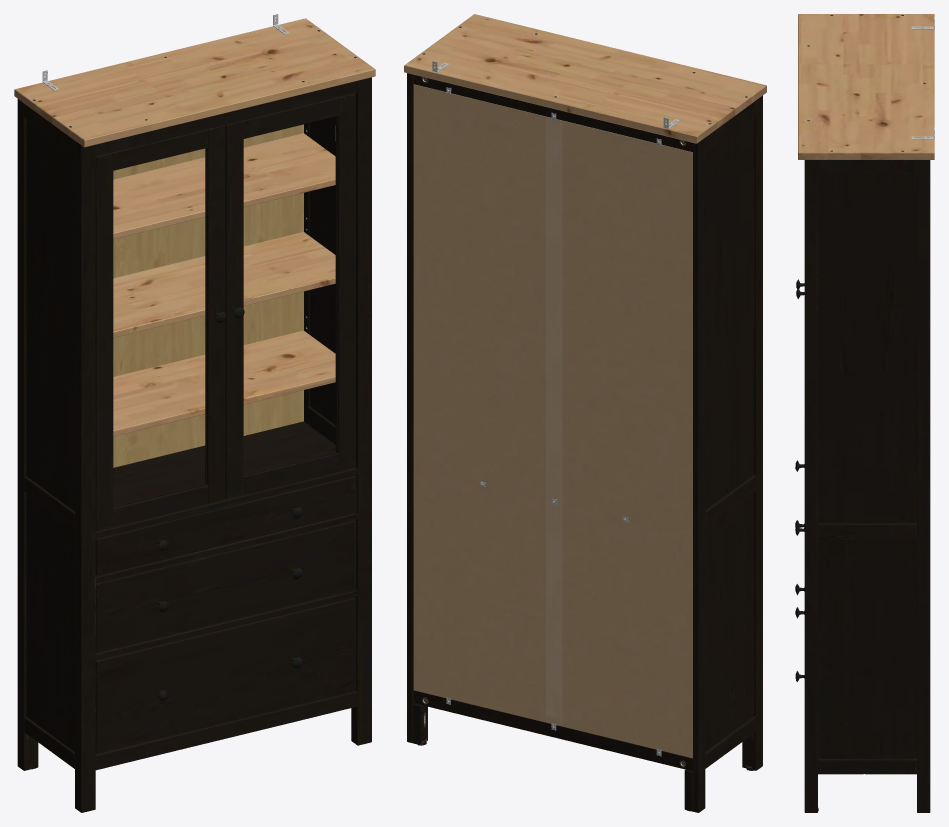
File: 18 - HEMNES - 玻璃門櫃3抽, 黑棕色淺棕色, 90x198 公分 IKEA 線上購物.glb
The picture shows the model from 3 angles, left to right: view 1: azimuth 30°, elevation 25°; view 2: azimuth 150°, elevation 25°; view 3: azimuth 270°, elevation 25°; orthographic projection. The views are drawn at different scales.
Visible parts, largest first — view 1: ASY_ART_10452299_S01_NV01; view 2: ASY_ART_10452299_S01_NV01; view 3: ASY_ART_10452299_S01_NV01.
Boxes of the visible parts, box(x1,y1,x2,y2) form: ASY_ART_10452299_S01_NV01: box(14, 14, 375, 812); ASY_ART_10452299_S01_NV01: box(404, 14, 766, 812); ASY_ART_10452299_S01_NV01: box(795, 14, 934, 812).
Size of the model in its own units: 0.891 by 2.01 by 0.378.
Materials: 2 (2 with a texture image).
